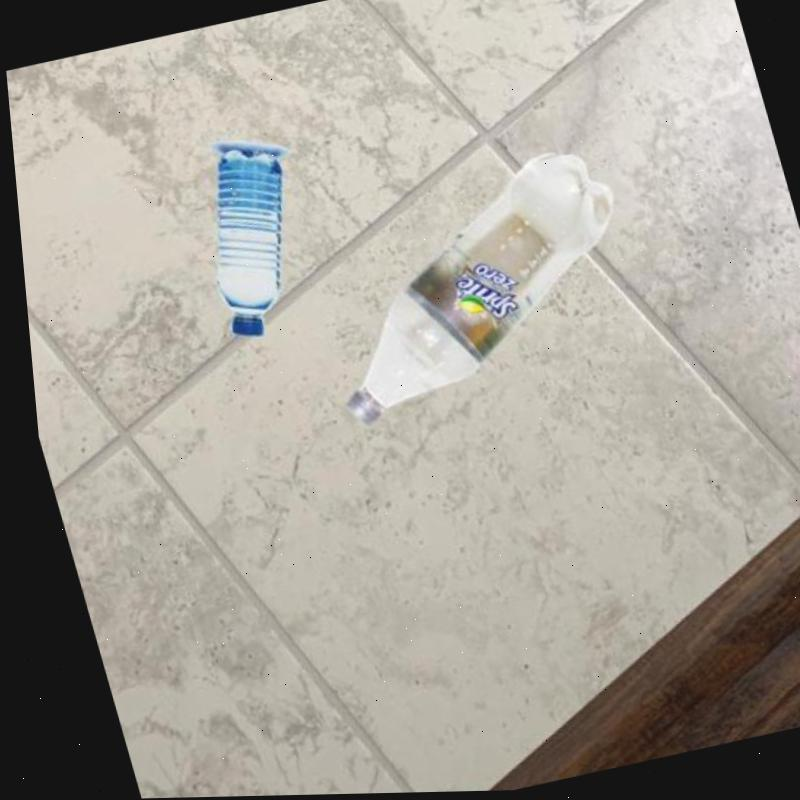botella: (275, 137, 657, 427), (174, 136, 322, 345)
